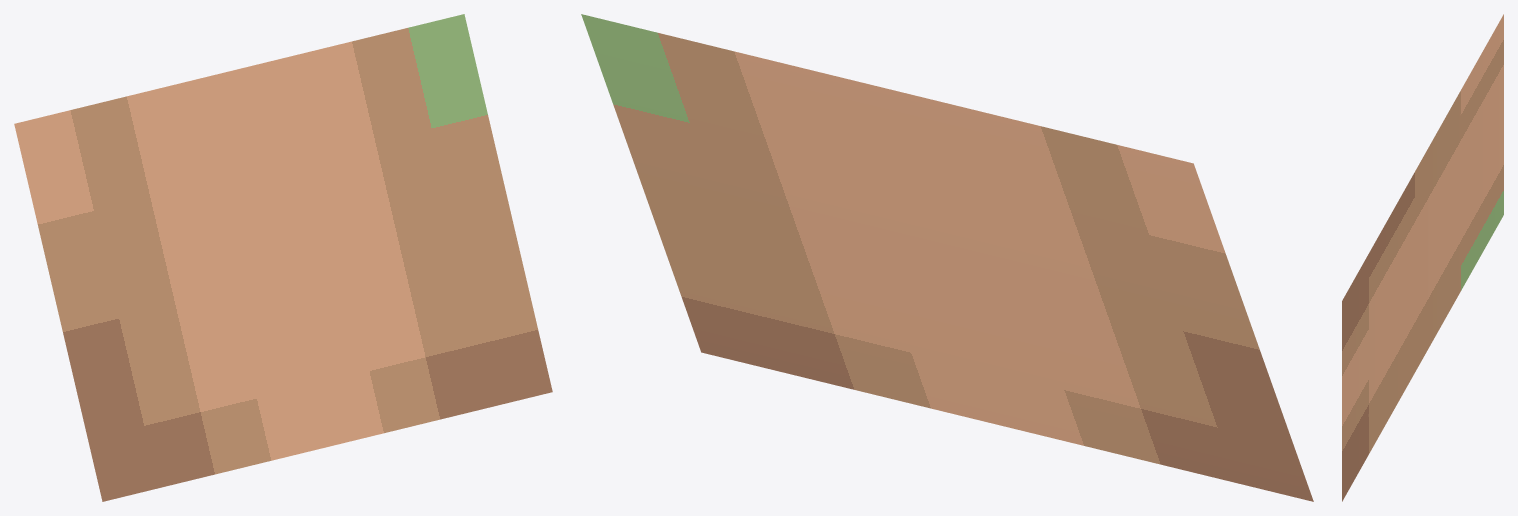
The picture shows the model from 3 angles, left to right: view 1: azimuth 30°, elevation 25°; view 2: azimuth 150°, elevation 25°; view 3: azimuth 270°, elevation 25°; orthographic projection. The views are drawn at different scales.
Bounding box in the file's own units: 0.5 × 0.3326 × 0.1699.
Materials: 1 (1 with a texture image).
